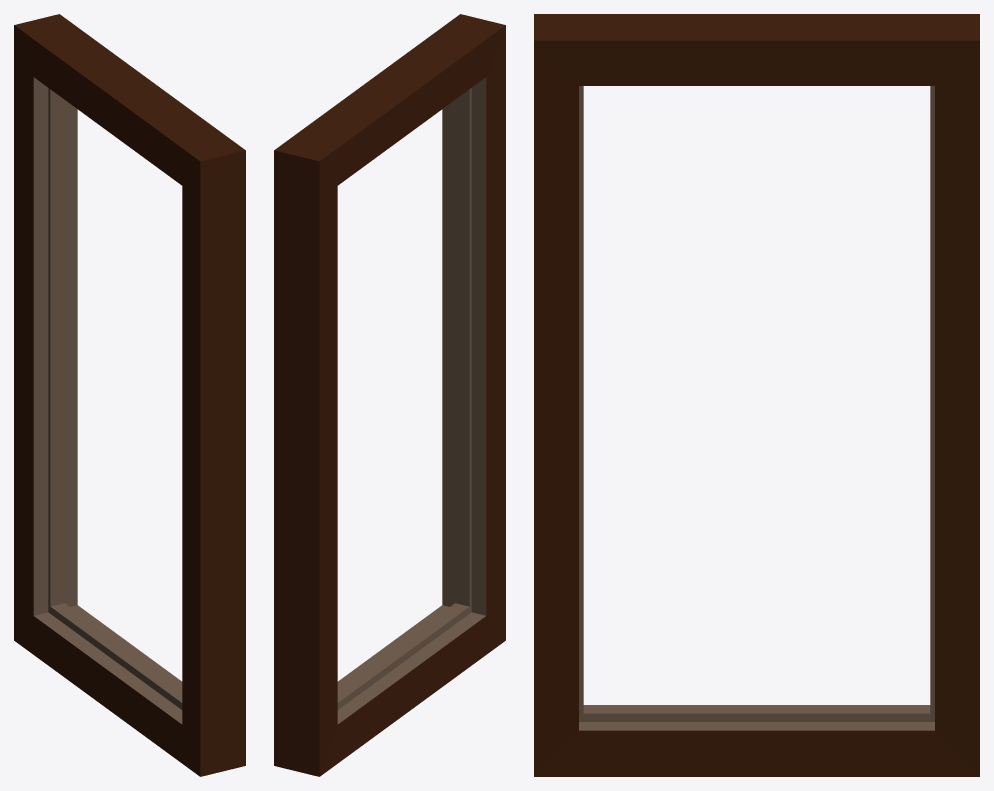
Rendered from door.fbx.
3 renders of one model, left to right at view 1: azimuth 30°, elevation 25°; view 2: azimuth 150°, elevation 25°; view 3: azimuth 270°, elevation 25°, orthographic. The views are drawn at different scales.
Visible parts, largest first — view 1: Door; view 2: Door; view 3: Door.
Boxes of the visible parts, x1,y1,x2,y2 form: Door: (14, 14, 245, 776); Door: (274, 14, 505, 776); Door: (534, 14, 979, 776).
Bounding box in the file's own units: 19.61 × 254 × 139.
